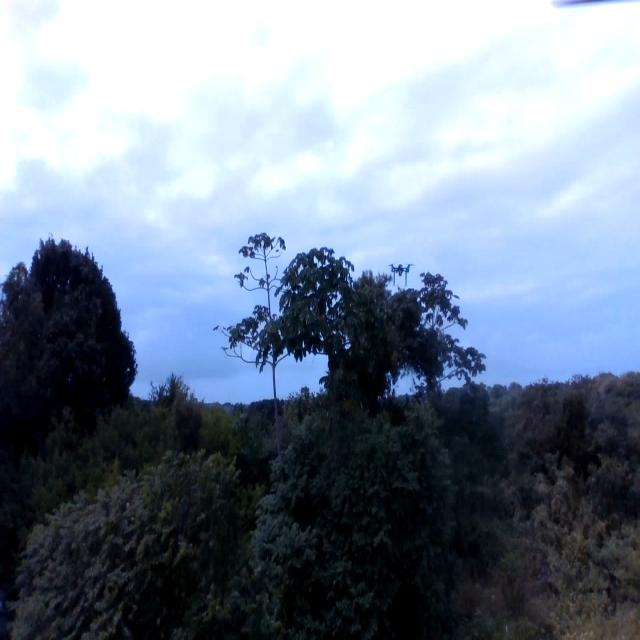-uav-: (385, 250, 414, 292)
